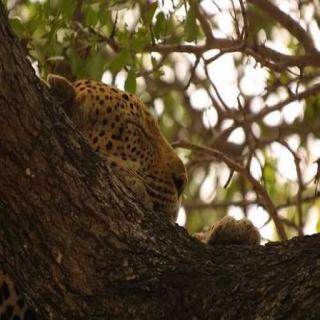Leopard: (12, 48, 209, 252)
